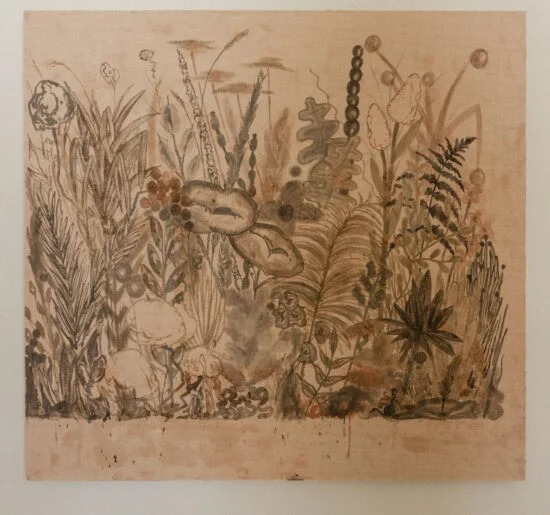painting: (21, 9, 528, 484)
